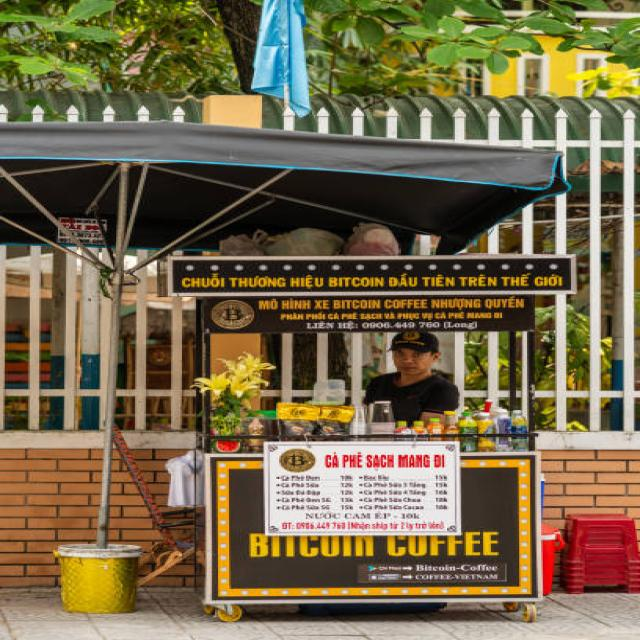Emperan: (151, 248, 576, 628)
